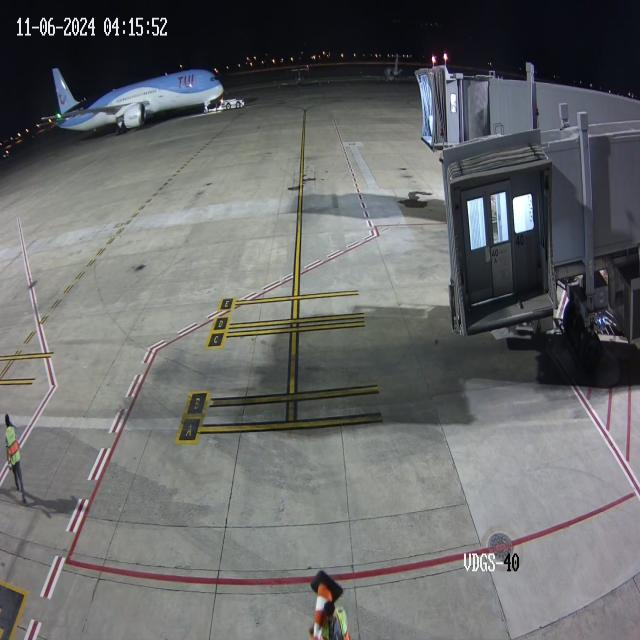bridge: (431, 66, 492, 149)
plane: (31, 2, 248, 146)
window: (209, 74, 220, 82)
